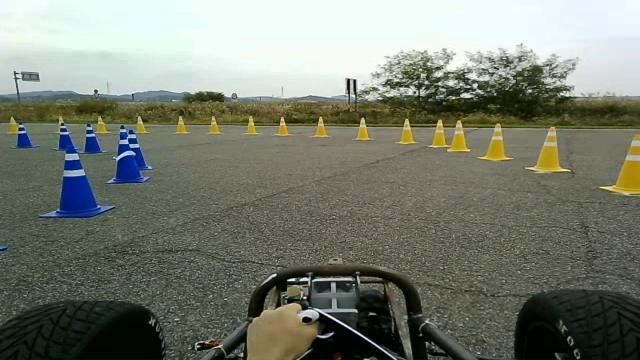blue cone: (38, 144, 115, 218), (112, 124, 150, 188)
yellow cone: (527, 121, 573, 178), (599, 134, 639, 195), (477, 122, 514, 161), (446, 120, 471, 152), (425, 119, 450, 148), (394, 118, 419, 144), (352, 116, 374, 140), (309, 115, 331, 138), (241, 115, 262, 135), (272, 116, 292, 136), (172, 115, 190, 134), (205, 115, 223, 134)
